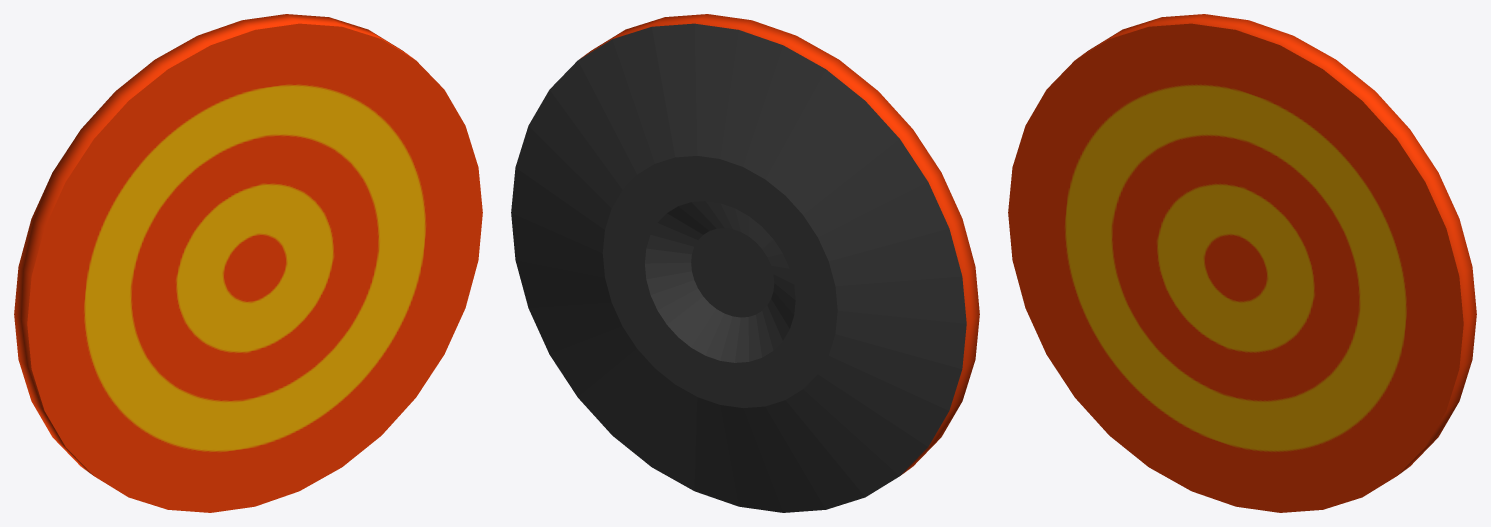
The model's file is Target.dae.
3 views of the same model, side by side, from view 1: azimuth 30°, elevation 25°; view 2: azimuth 150°, elevation 25°; view 3: azimuth 330°, elevation 25° (orthographic).
Visible parts, largest first — view 1: Cylinder; view 2: Cylinder; view 3: Cylinder.
Part boxes in pixels (x1,y1,x2,y2): Cylinder: (14,14,482,512); Cylinder: (511,14,979,512); Cylinder: (1008,14,1476,512).
Size of the model in its own units: 2 by 0.2423 by 2.
2 materials, 1 textured.
